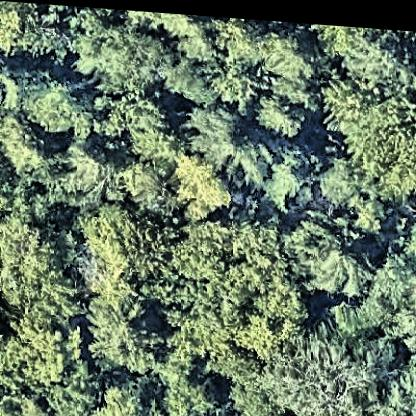tree-top: (335, 53, 416, 197), (221, 13, 321, 127), (272, 318, 382, 416), (0, 214, 79, 319), (77, 17, 174, 95), (81, 293, 165, 376), (291, 207, 362, 288), (185, 96, 263, 167), (78, 197, 146, 277), (2, 314, 74, 388), (173, 207, 239, 286), (166, 295, 236, 366), (370, 238, 416, 340), (102, 86, 174, 149), (24, 70, 88, 140), (58, 136, 120, 208), (341, 28, 413, 86), (176, 142, 230, 218), (4, 1, 71, 60), (264, 136, 318, 209), (120, 151, 176, 210), (252, 83, 310, 139), (90, 373, 162, 416), (50, 364, 106, 416), (236, 304, 289, 357), (254, 273, 310, 322), (2, 118, 49, 176), (160, 370, 218, 416), (302, 19, 383, 50), (0, 2, 36, 58), (392, 339, 416, 416), (113, 8, 178, 31), (0, 391, 58, 416), (394, 199, 416, 257), (216, 409, 284, 416)
